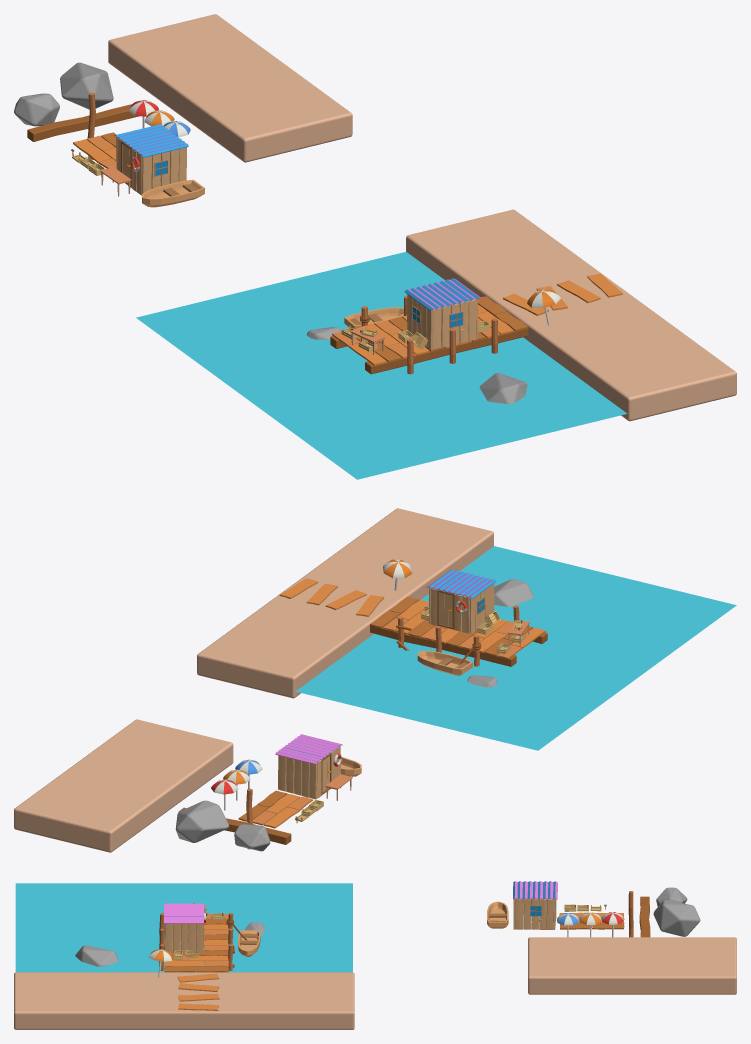
File: uploads_files_2583938_beach+pack+.glb.glb
3 views of the same model, one above another, from view 1: azimuth 30°, elevation 25°; view 2: azimuth 150°, elevation 25°; view 3: azimuth 270°, elevation 25° (orthographic). The views are drawn at different scales.
Visible parts, largest first — view 1: Plane, Cube.046, Cube.034, Cube.052, Cube.025, Icosphere.002, Cube.033, Cube.017, Icosphere.003, Cube.031, Icosphere.001, Cylinder.003; view 2: Plane, Cube.046, Cube.034, Cube.052, Cube.025, Icosphere.002, Cube.013, Cube.065, Icosphere.001, Icosphere.003, Cylinder.003; view 3: Plane, Cube.046, Cube.034, Cube.025, Cube.052, Icosphere.002, Icosphere.001, Cube.031, Cylinder.003, Cube.065, Cube.033, Icosphere.003 (+5 smaller).
Part boxes in pixels (bbox=[...]): Plane: bbox=[136, 252, 627, 479]; Cube.046: bbox=[406, 209, 736, 421]; Cube.034: bbox=[108, 14, 352, 162]; Cube.052: bbox=[404, 278, 481, 350]; Cube.025: bbox=[114, 124, 188, 195]; Icosphere.002: bbox=[60, 62, 113, 109]; Cube.033: bbox=[27, 104, 138, 141]; Cube.017: bbox=[365, 328, 528, 374]; Icosphere.003: bbox=[14, 93, 59, 126]; Cube.031: bbox=[142, 179, 204, 207]; Icosphere.001: bbox=[479, 373, 527, 404]; Cylinder.003: bbox=[361, 295, 497, 374]; Plane: bbox=[295, 546, 736, 750]; Cube.046: bbox=[197, 508, 493, 698]; Cube.034: bbox=[14, 719, 233, 852]; Cube.052: bbox=[426, 569, 495, 633]; Cube.025: bbox=[275, 734, 342, 799]; Icosphere.002: bbox=[175, 800, 229, 842]; Cube.013: bbox=[370, 625, 516, 666]; Cube.065: bbox=[417, 650, 472, 675]; Icosphere.001: bbox=[494, 579, 533, 606]; Icosphere.003: bbox=[234, 824, 270, 851]; Cylinder.003: bbox=[396, 605, 519, 666]; Plane: bbox=[15, 883, 352, 972]; Cube.046: bbox=[14, 972, 354, 1029]; Cube.034: bbox=[528, 937, 736, 994]; Cube.025: bbox=[513, 881, 557, 929]; Cube.052: bbox=[164, 903, 207, 952]; Icosphere.002: bbox=[653, 900, 700, 936]; Icosphere.001: bbox=[75, 945, 118, 966]; Cube.031: bbox=[487, 901, 508, 928]; Cylinder.003: bbox=[159, 913, 234, 970]; Cube.065: bbox=[238, 930, 260, 956]; Cube.033: bbox=[639, 896, 650, 937]; Icosphere.003: bbox=[656, 887, 687, 906].
Size of the model in its own units: 45.92 by 11.99 by 99.38.
